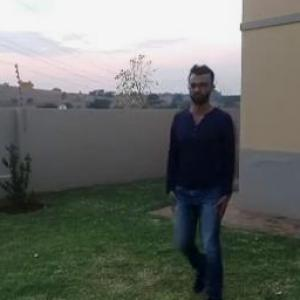follow: (170, 67, 240, 274)
